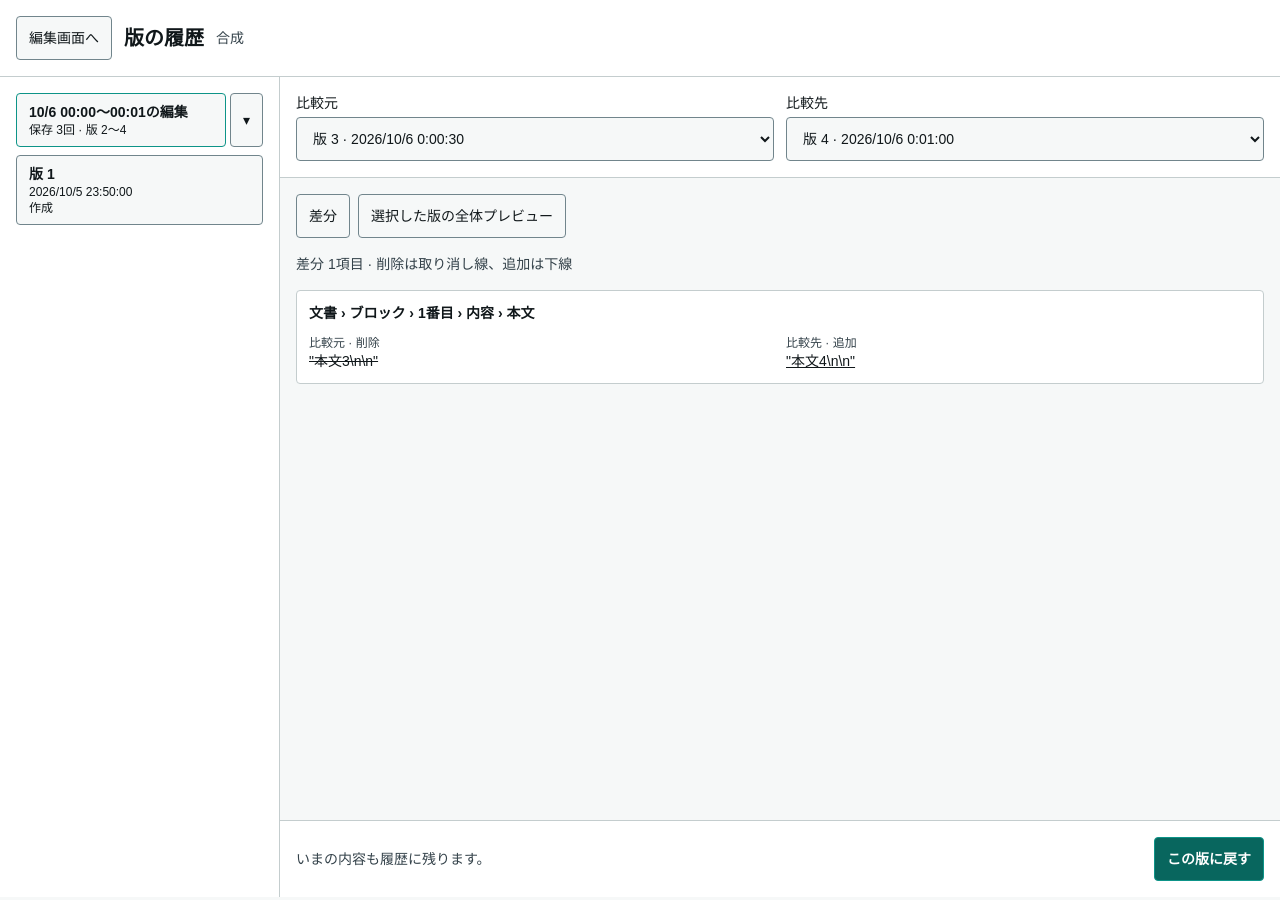
it: 自動保存のまとまり › 開くと中の版を選べ、そこから戻せる
Click the button named "版 2〜4 の内訳を開く". click: (246, 120)
box: [230,93,263,147]
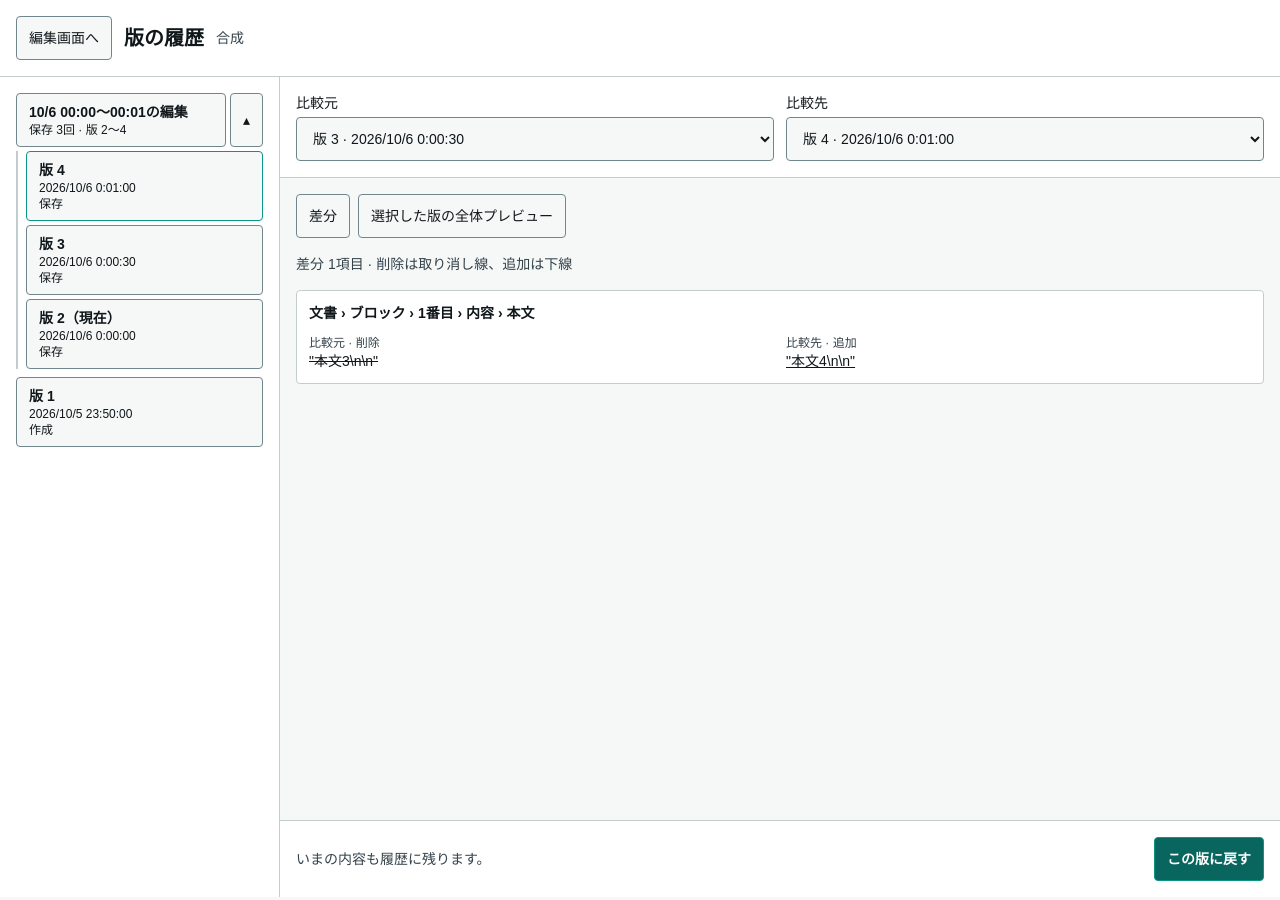
Check: the button named "版 2〜4 の内訳を閉じる" is expanded, box [230,93,263,147]
Click the button "版 3 2026/10/6 0:00:30 保存". click: (144, 260)
box: [26,225,263,295]
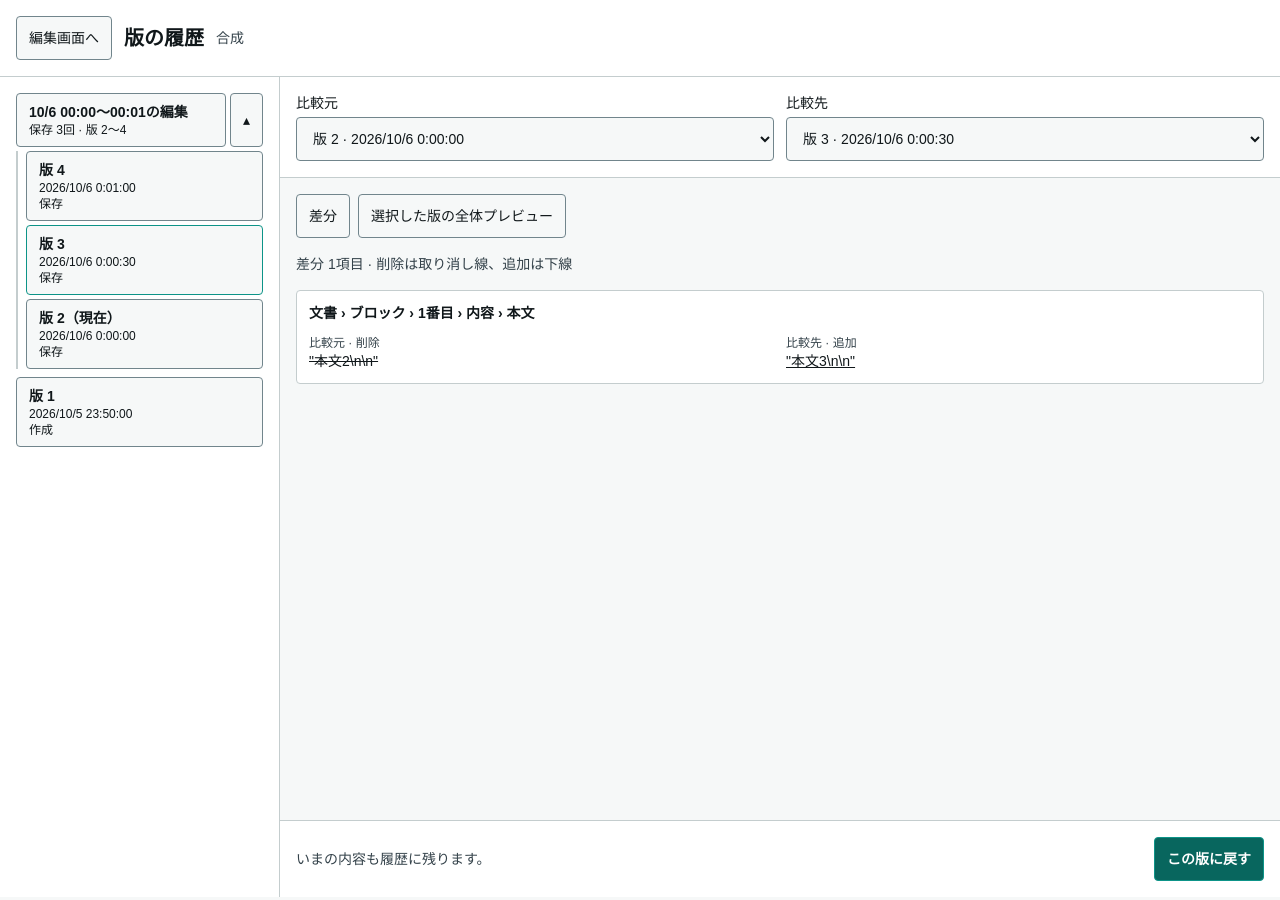
Check: the dropdown labelled "比較先" shows "版 3 · 2026/10/6 0:00:30", box [786,117,1264,161]
Click the button "この版に戻す". click: (1209, 859)
box: [1154,837,1264,881]
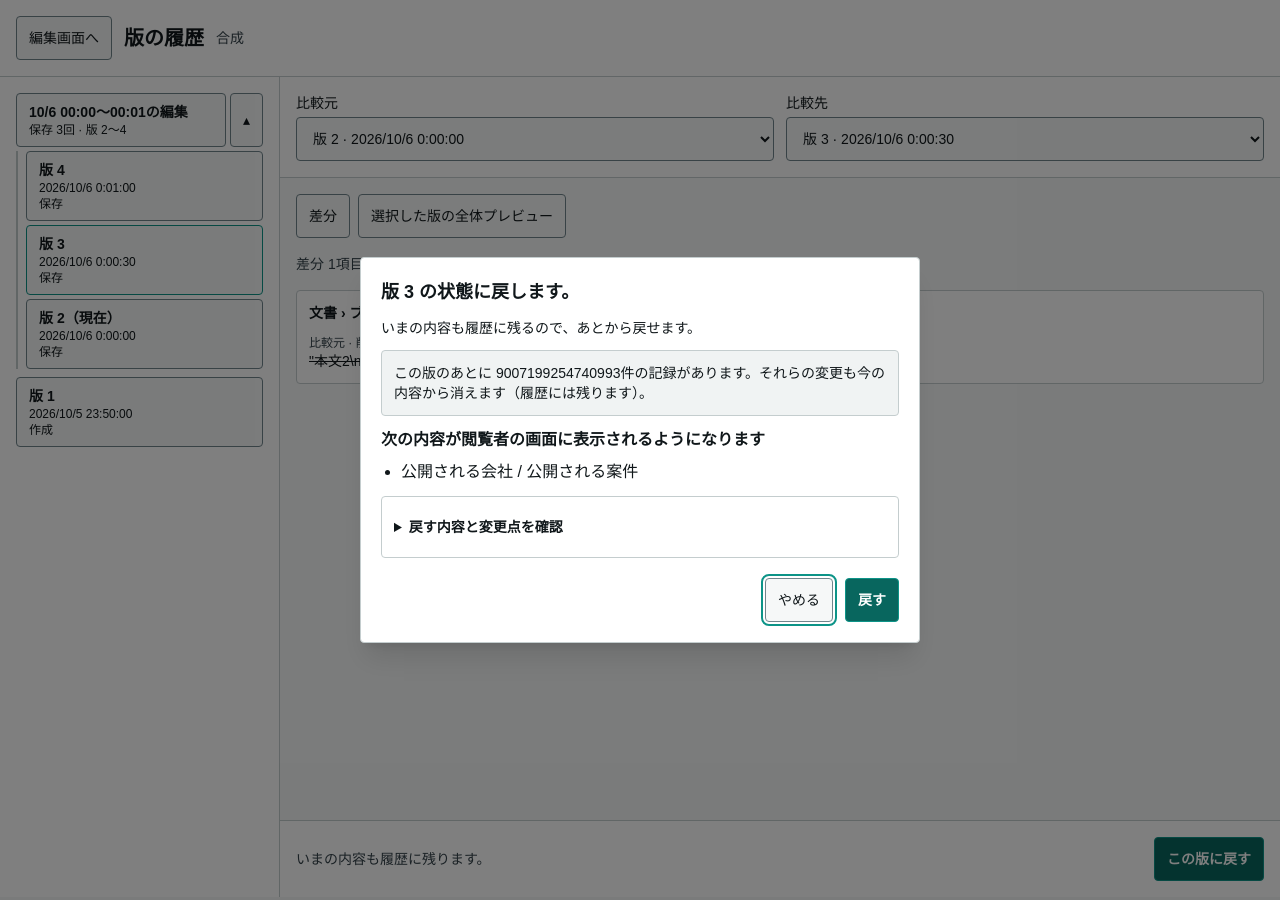
Check: the dialog is shown, box [360,257,920,643]
